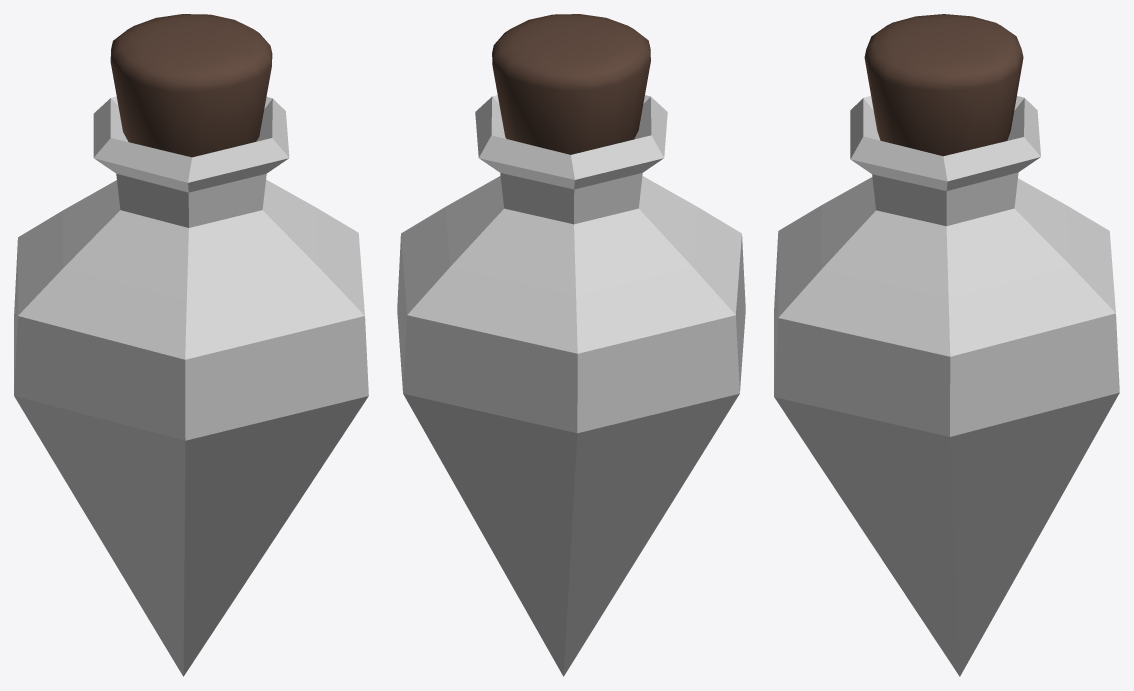
The model's file is potion10-filled-b17bd4d380.glb.
3 views of the same model, side by side, from view 1: azimuth 30°, elevation 25°; view 2: azimuth 150°, elevation 25°; view 3: azimuth 270°, elevation 25° (orthographic).
Parts seen in each view (by area): view 1: Potion10_Filled.obj; view 2: Potion10_Filled.obj; view 3: Potion10_Filled.obj.
Boxes of the visible parts, x1,y1,x2,y2 form: Potion10_Filled.obj: (14,14,368,676); Potion10_Filled.obj: (397,14,745,676); Potion10_Filled.obj: (774,14,1119,676).
Size of the model in its own units: 0.4379 by 0.7742 by 0.3792.
